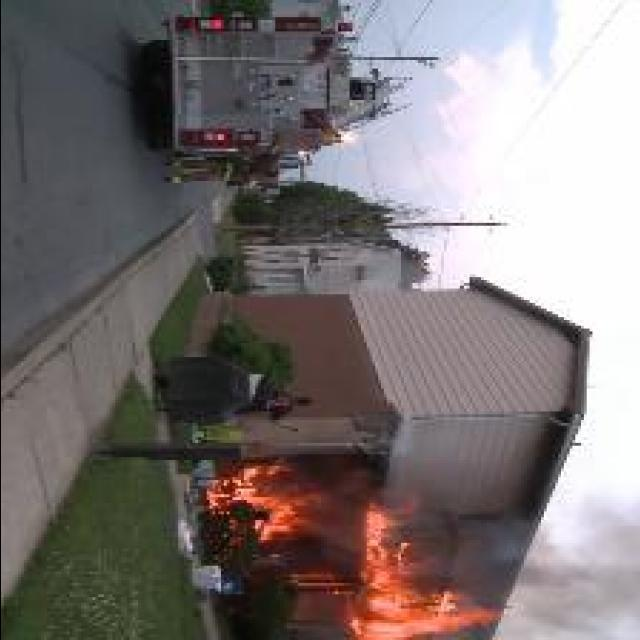Fire: (336, 497, 498, 640), (206, 463, 323, 546)
